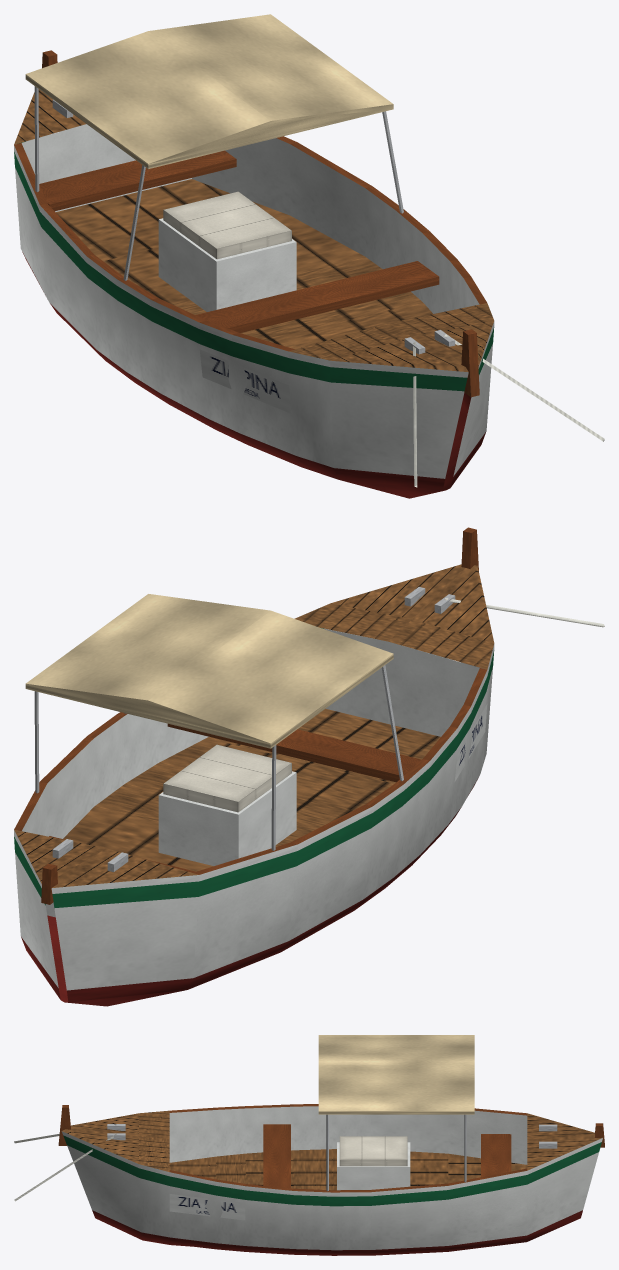
File: SM_Morin_Barca_Gozzo_FasciaVerde_Prua_LOD1.fbx
3 renders of one model, top to bottom at view 1: azimuth 30°, elevation 25°; view 2: azimuth 150°, elevation 25°; view 3: azimuth 270°, elevation 25°, orthographic. The views are drawn at different scales.
Visible parts, largest first — view 1: SM_Morin_Barca_Gozzo_FasciaVerde_Prua_LOD1; view 2: SM_Morin_Barca_Gozzo_FasciaVerde_Prua_LOD1; view 3: SM_Morin_Barca_Gozzo_FasciaVerde_Prua_LOD1.
Boxes of the visible parts, x1,y1,x2,y2 form: SM_Morin_Barca_Gozzo_FasciaVerde_Prua_LOD1: [14, 14, 604, 498]; SM_Morin_Barca_Gozzo_FasciaVerde_Prua_LOD1: [14, 527, 604, 1006]; SM_Morin_Barca_Gozzo_FasciaVerde_Prua_LOD1: [14, 1035, 604, 1255].
Bounding box in the file's own units: 229 × 644 × 222.
Materials: 1 (1 with a texture image).
